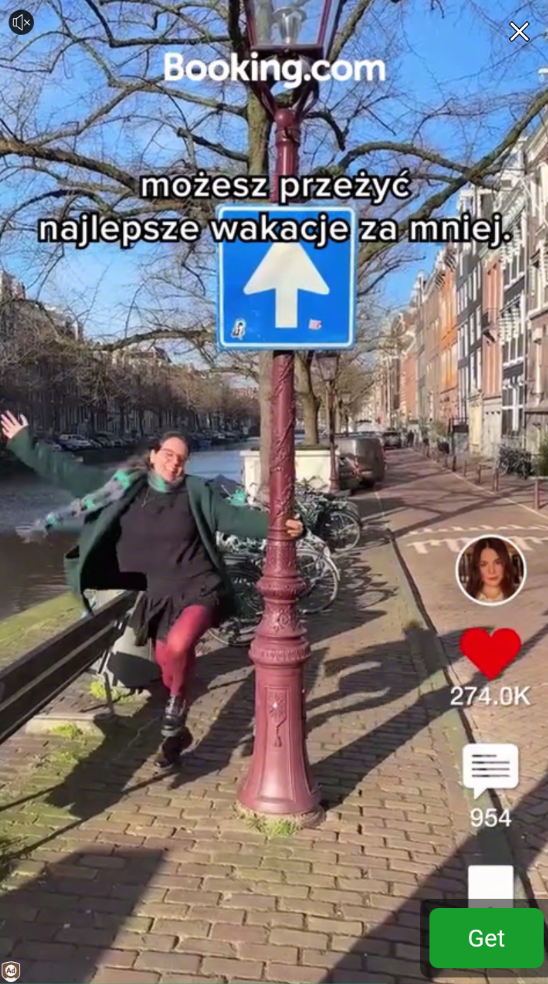close_button: (504, 17, 533, 46)
